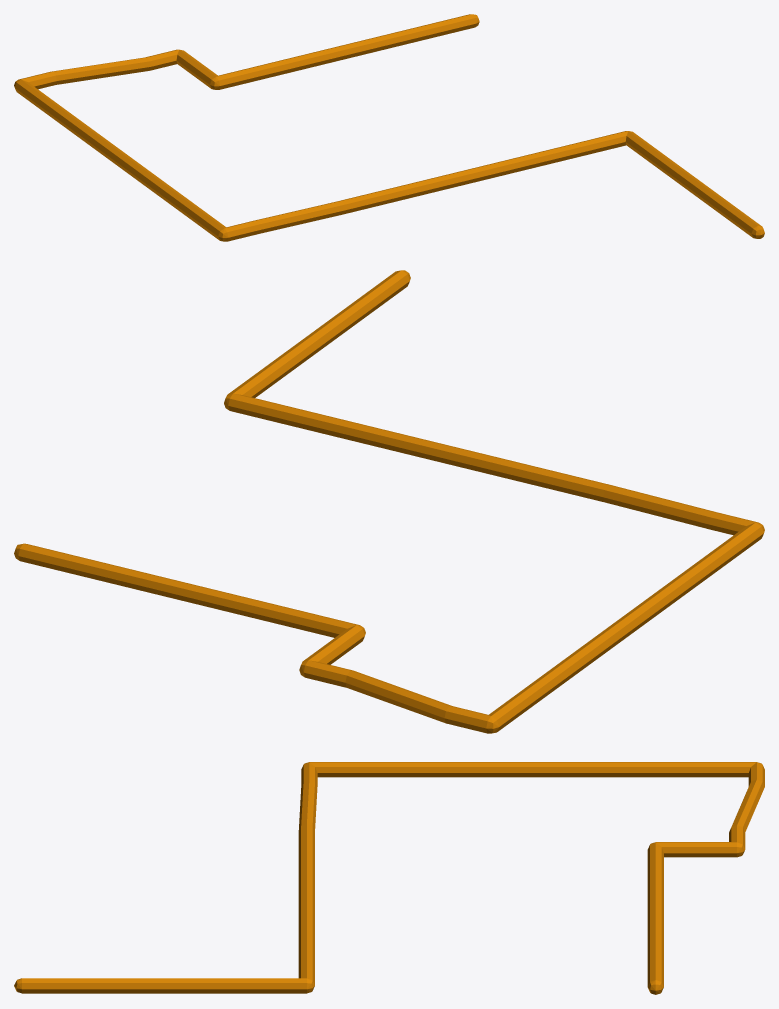
3 views of the same model, one above another, from view 1: azimuth 30°, elevation 25°; view 2: azimuth 150°, elevation 25°; view 3: azimuth 270°, elevation 25° (orthographic). The views are drawn at different scales.
Bounding box in the file's own units: 653 × 20 × 923.
